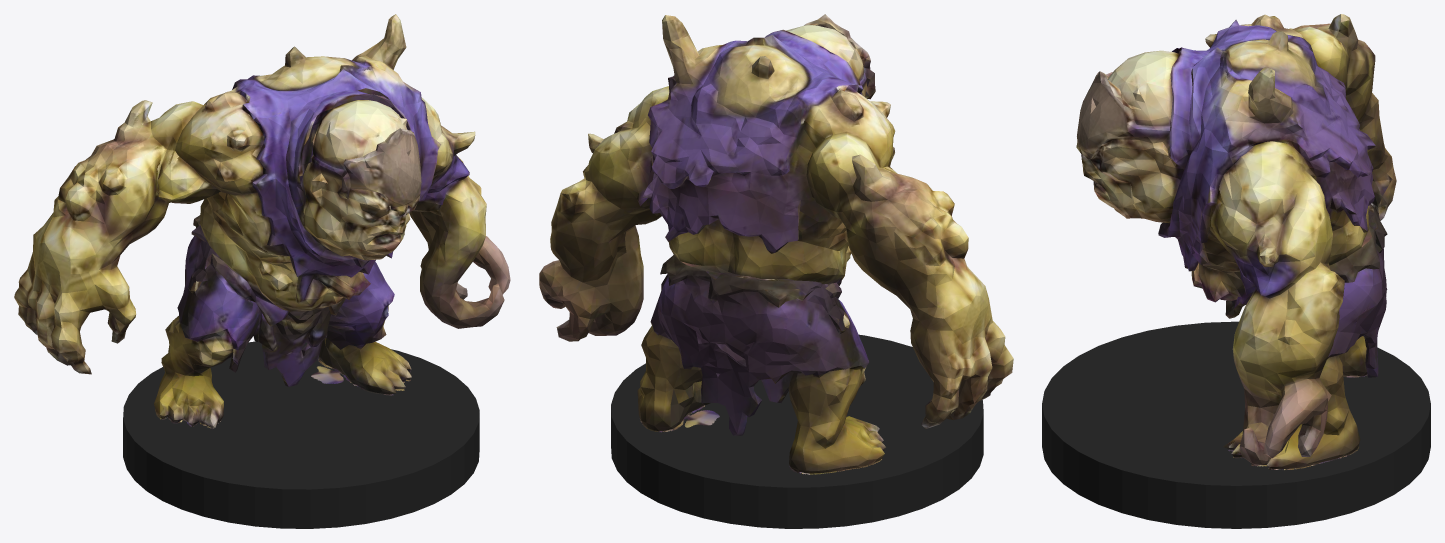
File: cc-mutant.glb
3 renders of one model, left to right at view 1: azimuth 30°, elevation 25°; view 2: azimuth 150°, elevation 25°; view 3: azimuth 270°, elevation 25°, orthographic. The views are drawn at different scales.
Parts seen in each view (by area): view 1: figure, base; view 2: figure, base; view 3: figure, base.
Boxes of the visible parts, bbox=[...] form: figure: bbox=[14, 14, 510, 428]; base: bbox=[123, 341, 479, 528]; figure: bbox=[539, 14, 1013, 474]; base: bbox=[611, 334, 983, 528]; figure: bbox=[1076, 14, 1396, 470]; base: bbox=[1042, 321, 1430, 528].
Size of the model in its own units: 1.43 by 1.22 by 0.9843.
Materials: 2 (1 with a texture image).
